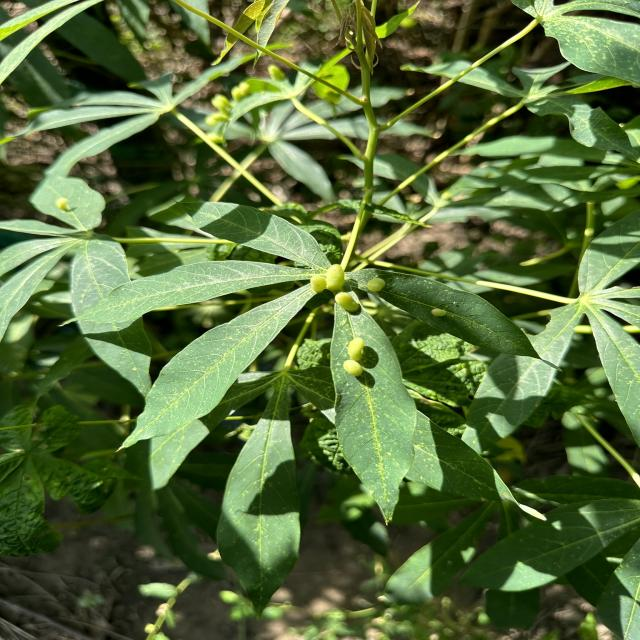Mosca: (310, 260, 386, 312), (206, 88, 241, 150), (336, 331, 374, 381), (227, 73, 267, 99), (256, 58, 289, 88), (425, 298, 454, 322), (52, 195, 75, 216)
